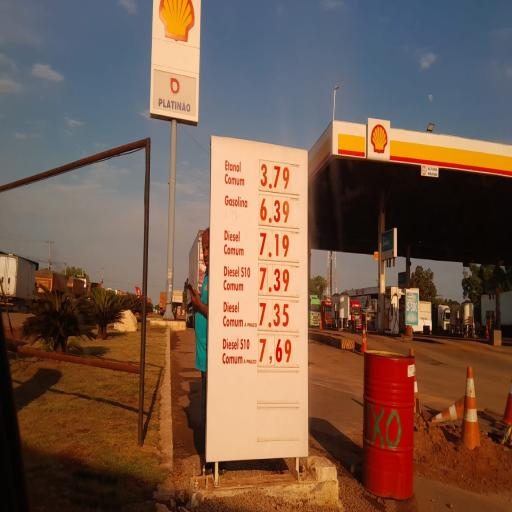ETANOL: (223, 154, 251, 193)
GASOLINA C: (223, 194, 250, 222)
S10: (222, 263, 252, 298)
S500: (222, 226, 246, 260)
placa: (220, 148, 303, 302)
preco: (258, 263, 293, 298), (257, 228, 291, 261), (257, 194, 290, 227), (258, 162, 290, 192)
